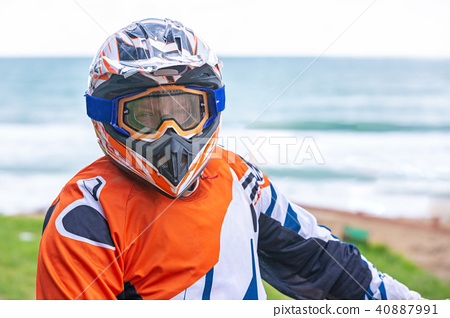helmet: (86, 26, 229, 171)
